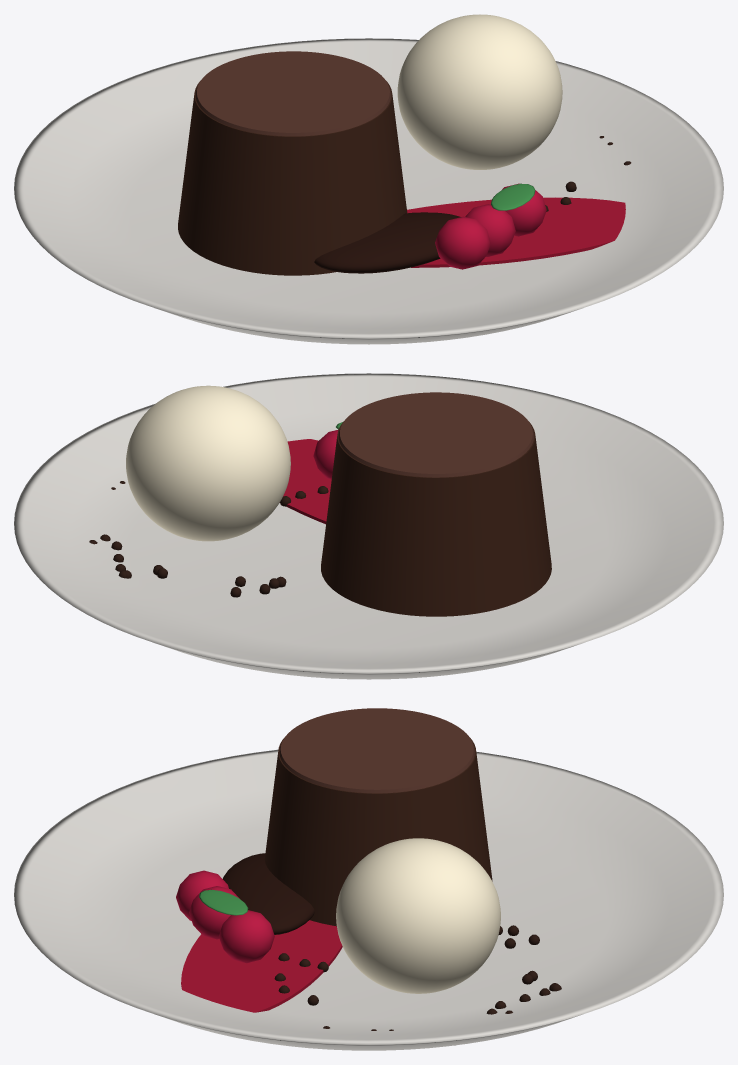
Rendered from fondant.glb.
3 views of the same model, one above another, from view 1: azimuth 30°, elevation 25°; view 2: azimuth 150°, elevation 25°; view 3: azimuth 270°, elevation 25° (orthographic).
Parts seen in each view (by area): view 1: ChocolateFondant; view 2: ChocolateFondant; view 3: ChocolateFondant.
Boxes of the visible parts, x1,y1,x2,y2 form: ChocolateFondant: [14, 14, 723, 344]; ChocolateFondant: [14, 373, 723, 679]; ChocolateFondant: [14, 708, 723, 1050].
Bounding box in the file's own units: 0.2795 × 0.0653 × 0.2795.
